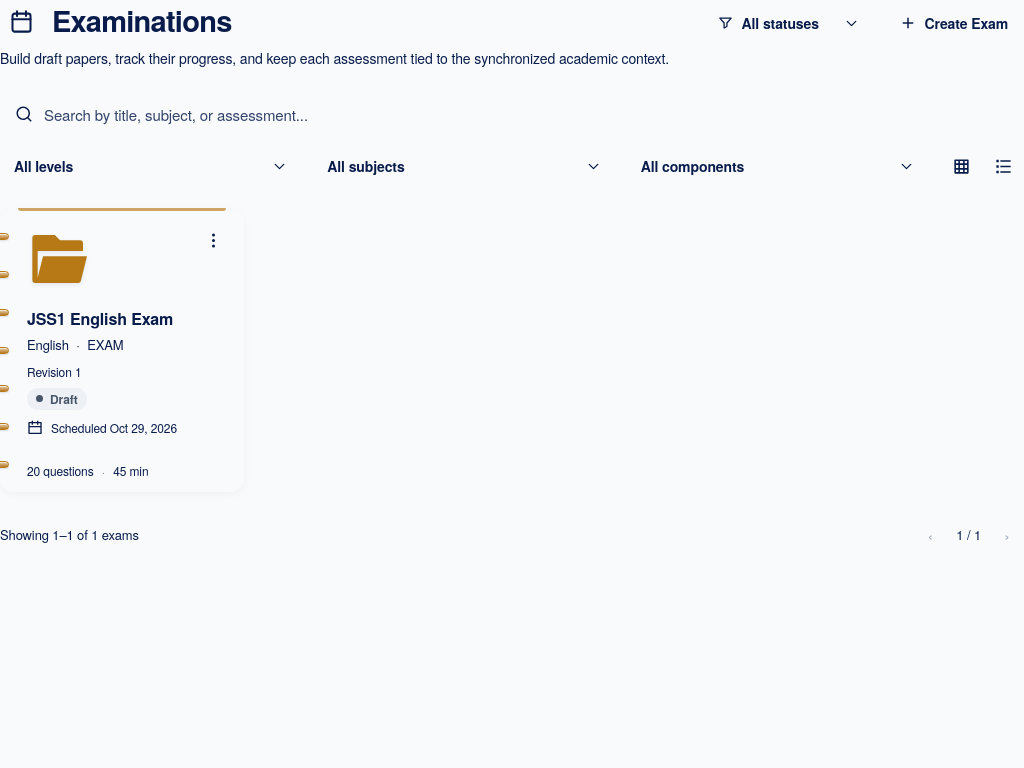
it: shared examination collaboration guidance › explains that a random shared draft needs no collaborator question configuration
Click the button named "lifecycle actions for jss1 english exam": [213, 240] box [196,223,230,257]
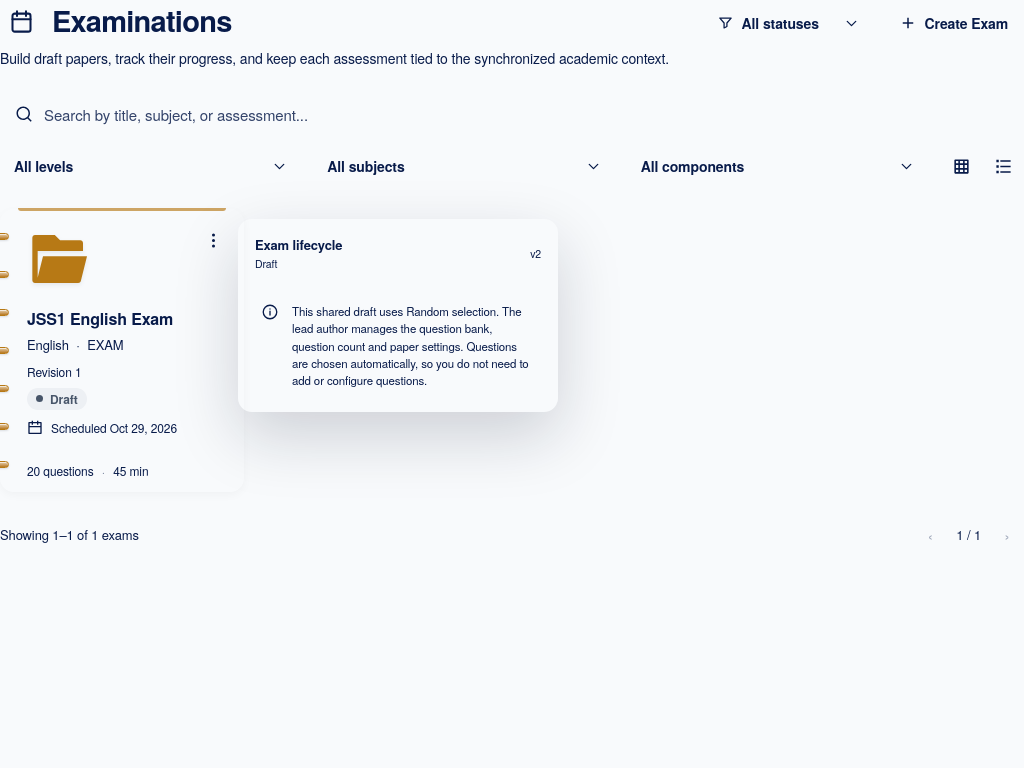
Now the text "you do not need to add or configure questions" is shown, box [292,303,529,388]
